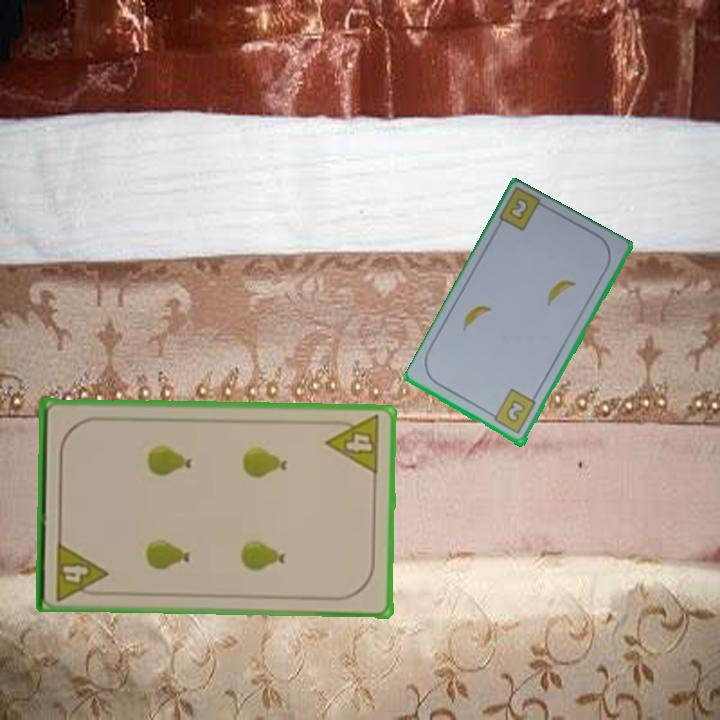2b: (486, 386, 539, 437), (505, 194, 532, 224)
4p: (323, 412, 383, 477), (52, 538, 110, 603)
